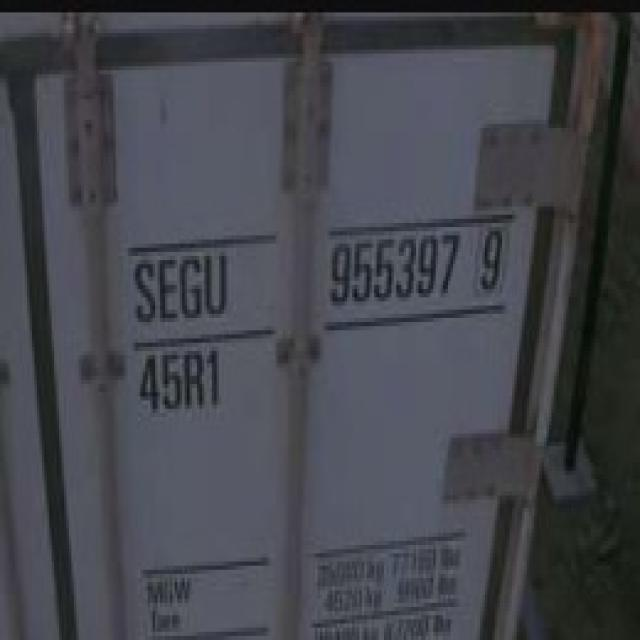dv: (478, 220, 508, 300)
owner: (128, 250, 232, 328)
serial: (328, 228, 462, 311)
size: (135, 342, 227, 420)
